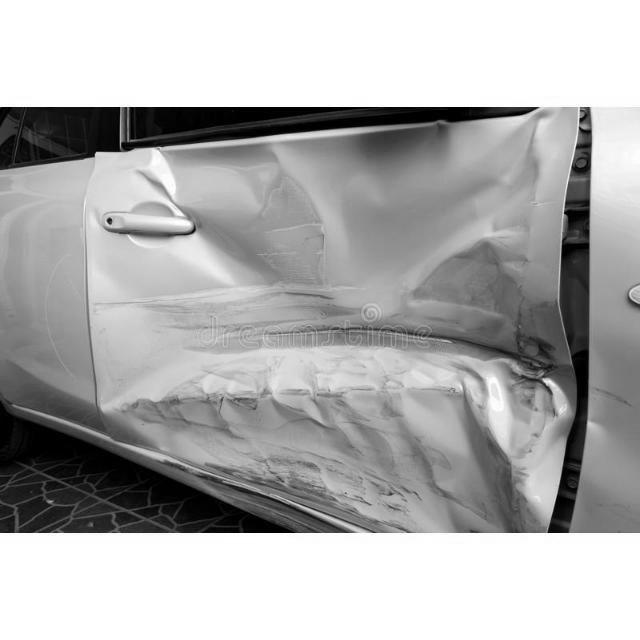doorouter-dent: (92, 121, 600, 527)
